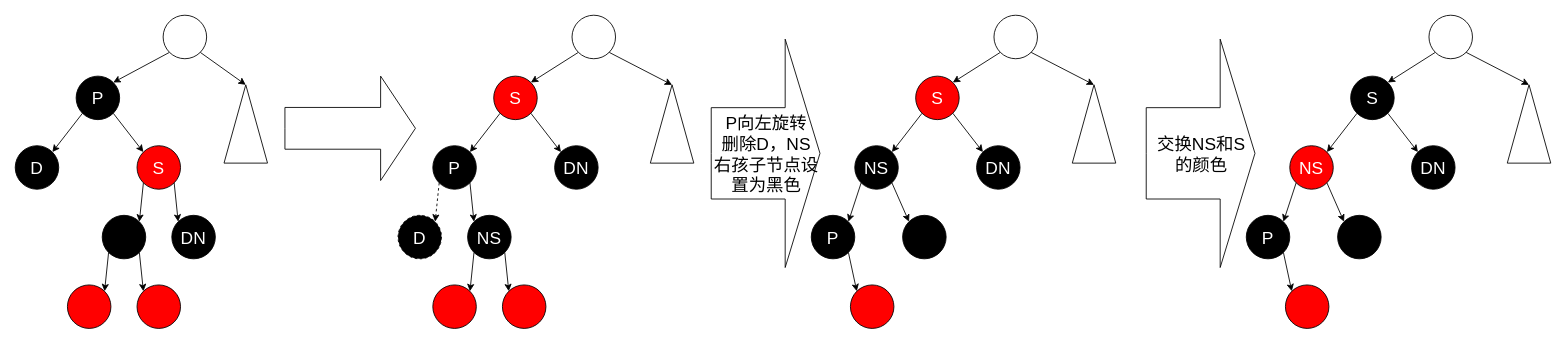
Image size: 1566x344. Some labels were removed from this diagram. Each missing label, with the centre of its shape:
CN: [123,236]
P向左旋转， CN设置为NS: [349,128]
